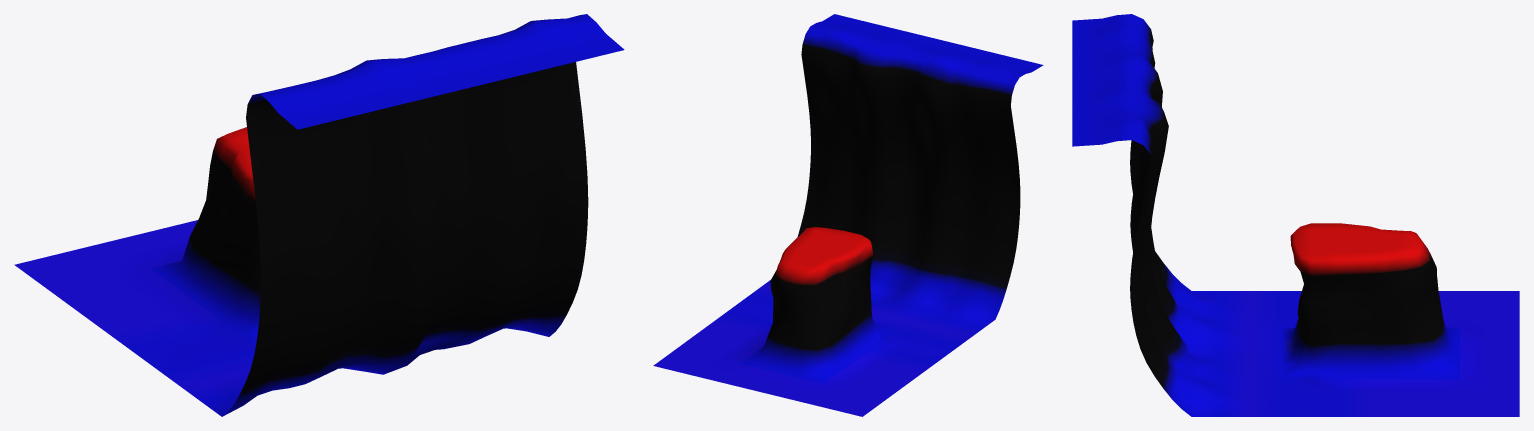
File: WaterFallCliff02C 3M.fbx
3 views of the same model, side by side, from view 1: azimuth 30°, elevation 25°; view 2: azimuth 150°, elevation 25°; view 3: azimuth 270°, elevation 25° (orthographic). The views are drawn at different scales.
Visible parts, largest first — view 1: WaterFallCliff02C 3M; view 2: WaterFallCliff02C 3M; view 3: WaterFallCliff02C 3M.
Boxes of the visible parts, <box> form: WaterFallCliff02C 3M: <box>14,14,624,416</box>; WaterFallCliff02C 3M: <box>653,14,1043,416</box>; WaterFallCliff02C 3M: <box>1072,14,1519,416</box>.
Size of the model in its own units: 2 by 2.07 by 3.
